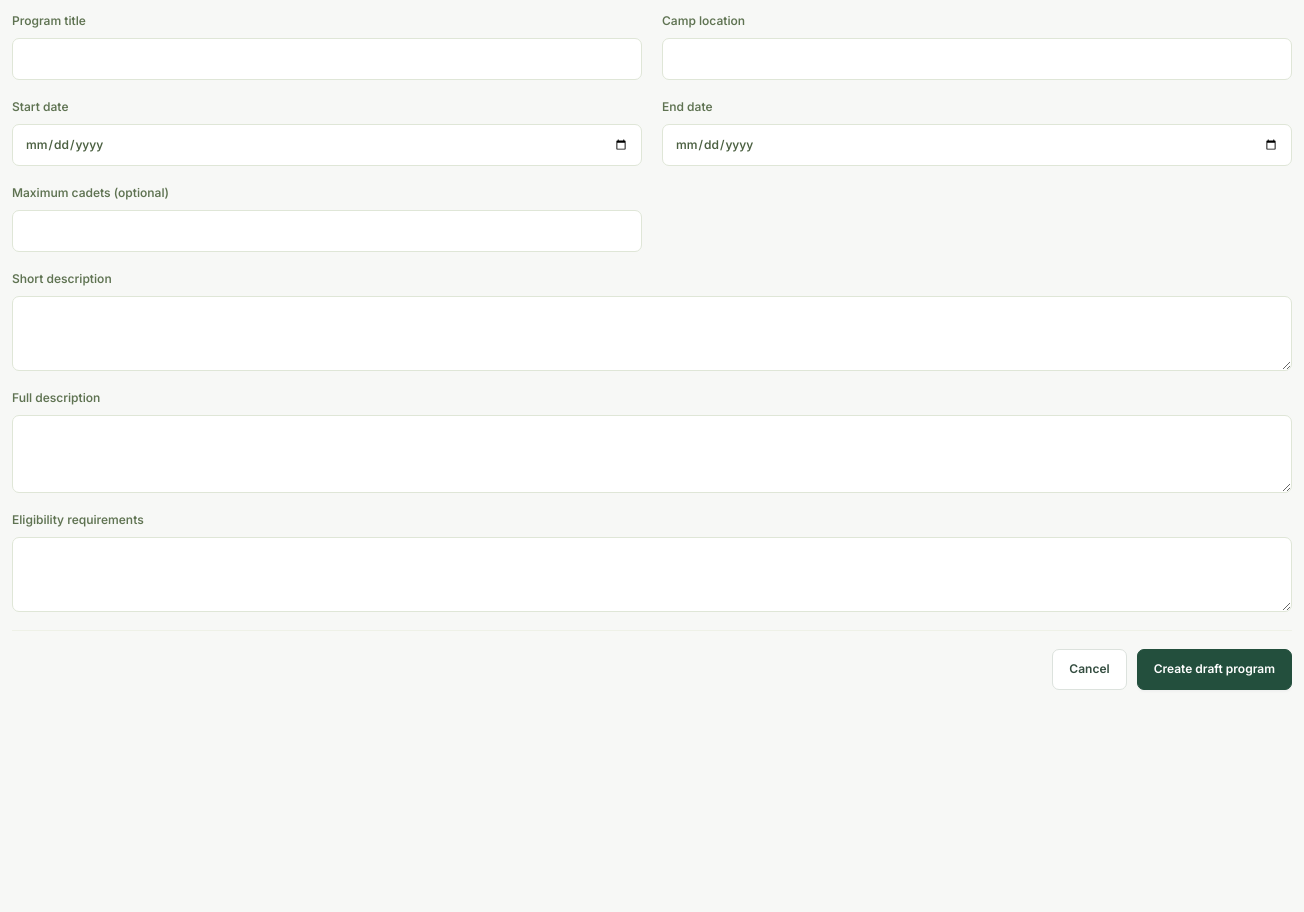
Portal workflows › rejects invalid program dates
Type "2026-10-25" into the date field labelled "Start date".
click(327, 145); type("2026-10-25")  # box [12,124,642,166]
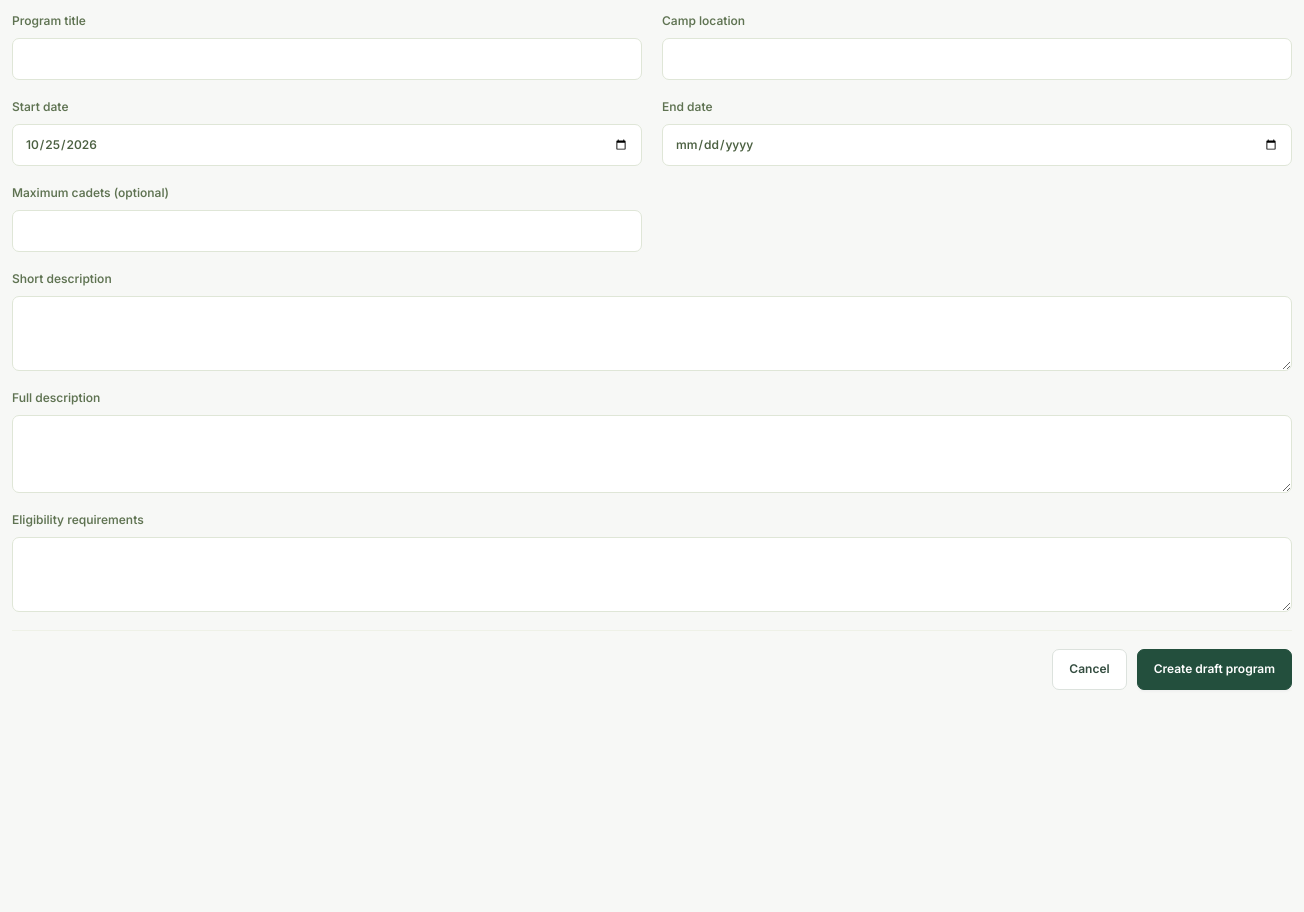
Type "2026-10-20" into the date field labelled "End date".
click(977, 145); type("2026-10-20")  # box [662,124,1292,166]
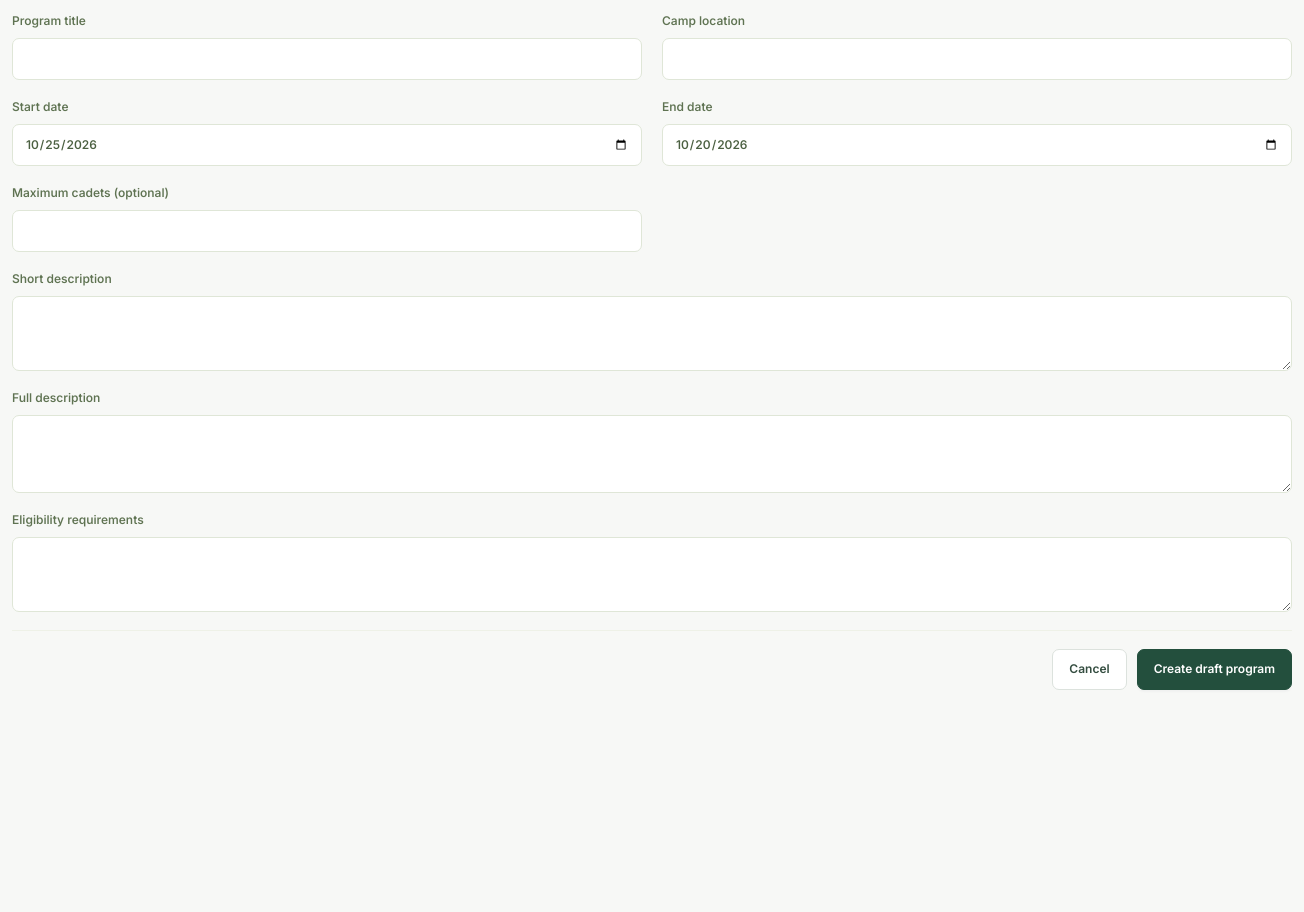
Click the button "Create draft program".
click(1214, 669)  # box [1137,649,1292,690]
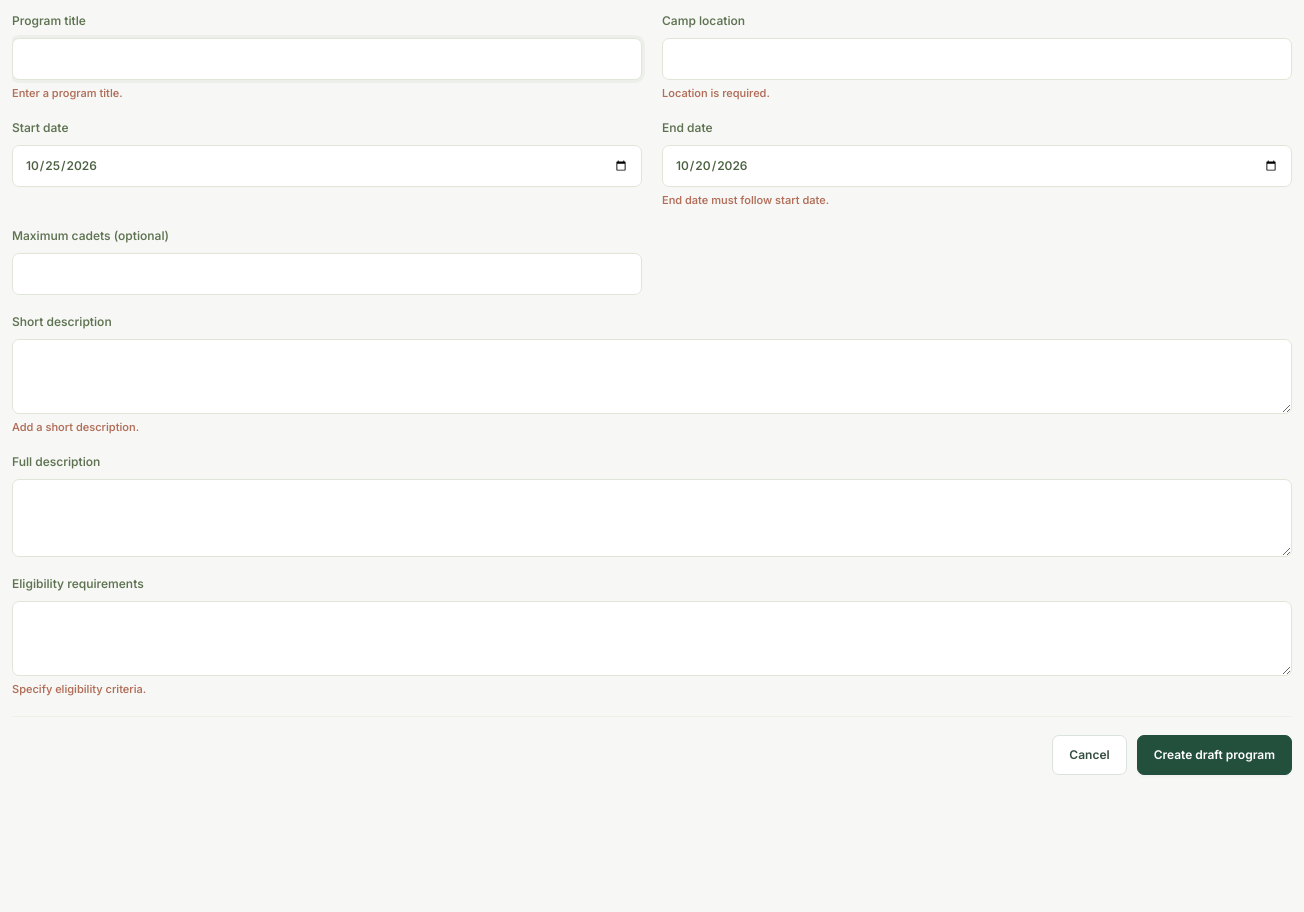
Result: the text "End date must follow start date." is shown at [662,193,829,207]
